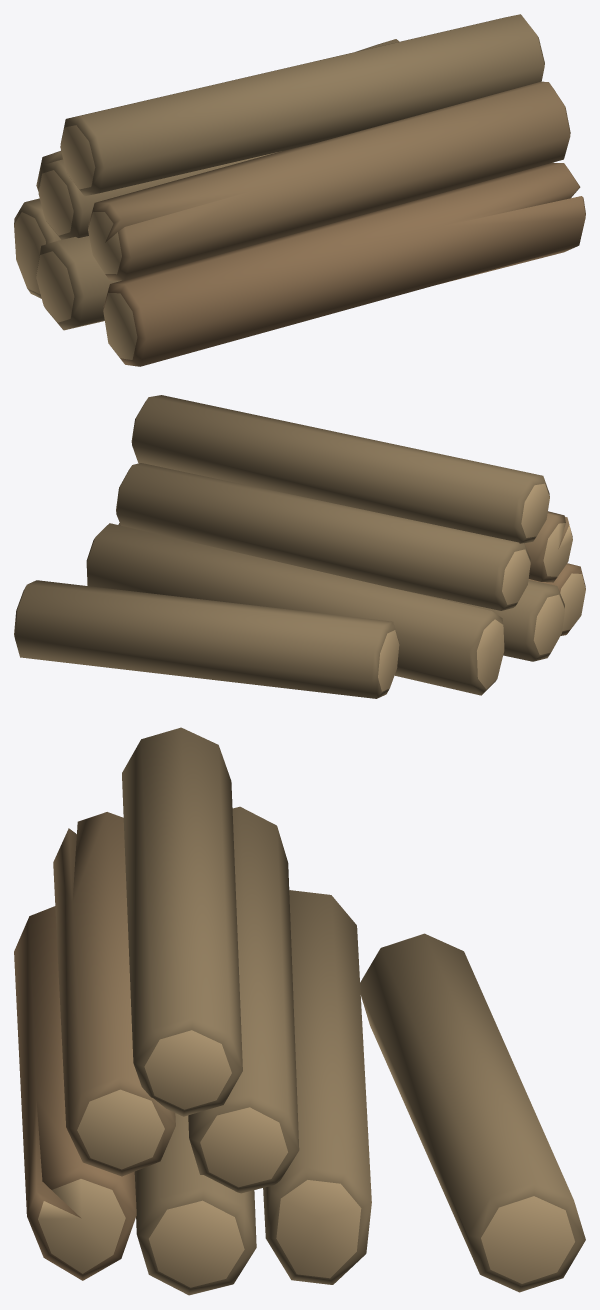
File: rpgpp_av_log_wood_01a.gltf
3 views of the same model, one above another, from view 1: azimuth 30°, elevation 25°; view 2: azimuth 150°, elevation 25°; view 3: azimuth 270°, elevation 25° (orthographic). The views are drawn at different scales.
Parts seen in each view (by area): view 1: rpgpp_av_log_wood_01a; view 2: rpgpp_av_log_wood_01a; view 3: rpgpp_av_log_wood_01a.
Boxes of the visible parts, x1,y1,x2,y2 form: rpgpp_av_log_wood_01a: (14,14,585,366); rpgpp_av_log_wood_01a: (14,395,585,698); rpgpp_av_log_wood_01a: (14,727,585,1295).
Size of the model in its own units: 0.0213 by 0.00916 by 0.0169.
1 material, 1 textured.
